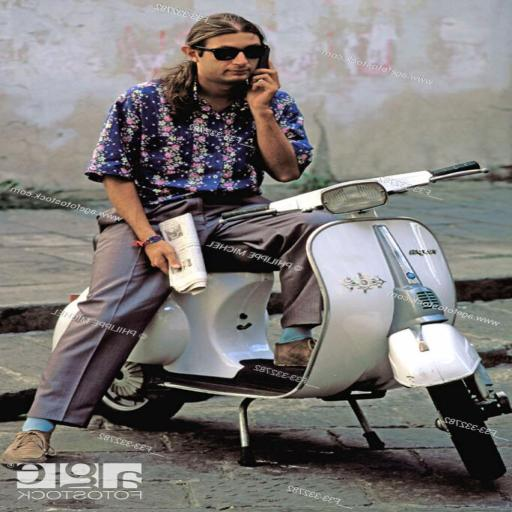overloading: (48, 158, 508, 481)
